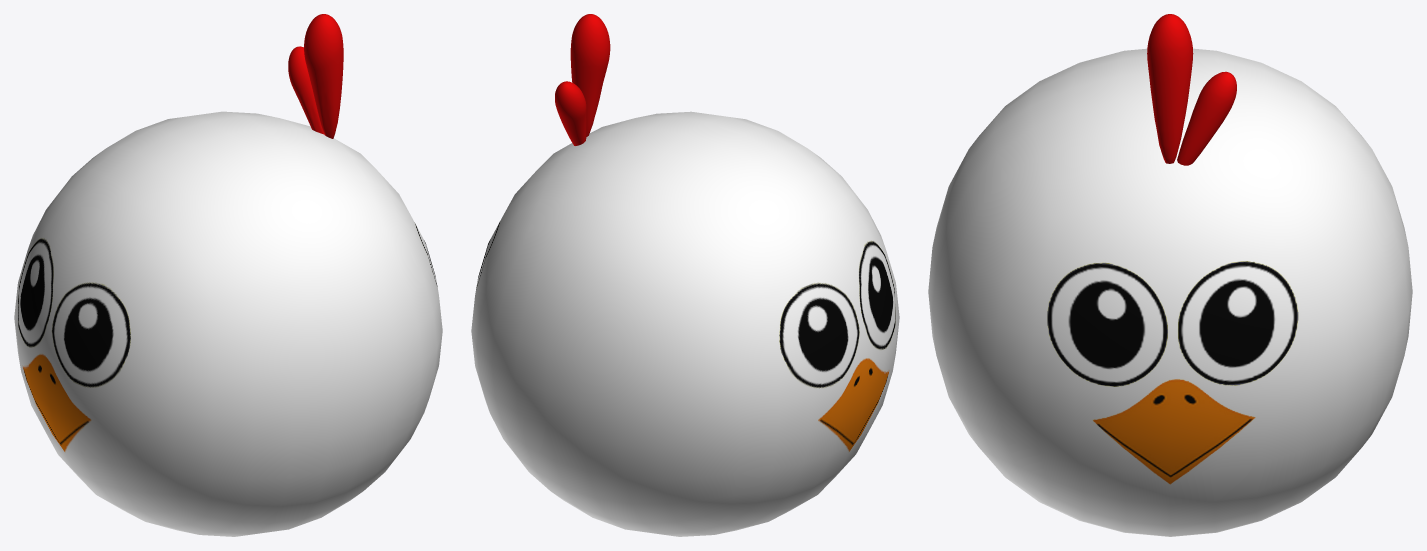
The model's file is level9.2.fbx.
3 renders of one model, left to right at view 1: azimuth 30°, elevation 25°; view 2: azimuth 150°, elevation 25°; view 3: azimuth 270°, elevation 25°, orthographic. The views are drawn at different scales.
Visible parts, largest first — view 1: polySurface28; view 2: polySurface28; view 3: polySurface28.
Boxes of the visible parts, x1=… form: polySurface28: x1=14, y1=14, x2=442, y2=536; polySurface28: x1=471, y1=14, x2=899, y2=536; polySurface28: x1=928, y1=14, x2=1412, y2=536.
Size of the model in its own units: 4.25 by 5.32 by 4.25.
